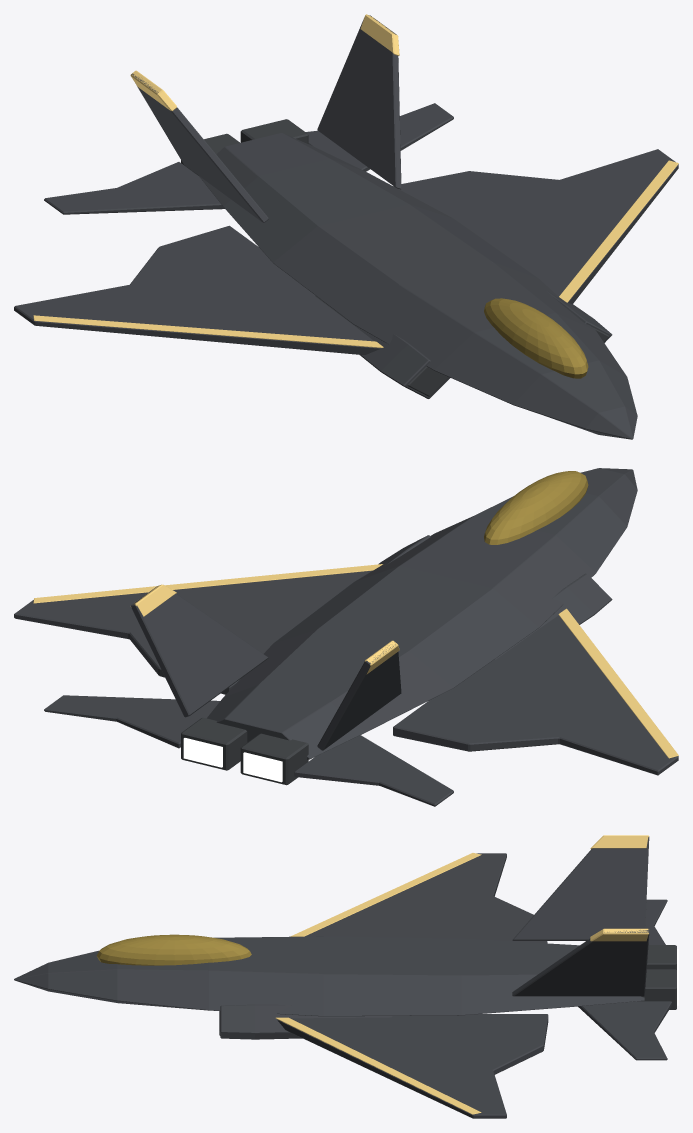
File: Jet_WraithX.fbx
3 views of the same model, one above another, from view 1: azimuth 30°, elevation 25°; view 2: azimuth 150°, elevation 25°; view 3: azimuth 270°, elevation 25° (orthographic). The views are drawn at different scales.
Visible parts, largest first — view 1: Body.006, Accents.003, Canopy.009, Trim.005; view 2: Body.006, Accents.003, Canopy.009, Trim.005, Glow.007; view 3: Body.006, Accents.003, Canopy.009, Trim.005.
Part boxes in pixels (x1,y1,x2,y2): Body.006: [14, 15, 678, 439]; Accents.003: [33, 14, 678, 347]; Canopy.009: [484, 298, 588, 378]; Trim.005: [181, 119, 609, 396]; Body.006: [14, 468, 678, 806]; Accents.003: [33, 564, 678, 758]; Canopy.009: [484, 471, 588, 544]; Trim.005: [181, 717, 308, 785]; Glow.007: [183, 738, 282, 782]; Body.006: [14, 837, 671, 1118]; Accents.003: [276, 835, 649, 1114]; Canopy.009: [96, 934, 251, 965]; Trim.005: [219, 945, 676, 1035].
Size of the model in its own units: 27 by 6.02 by 28.99.
